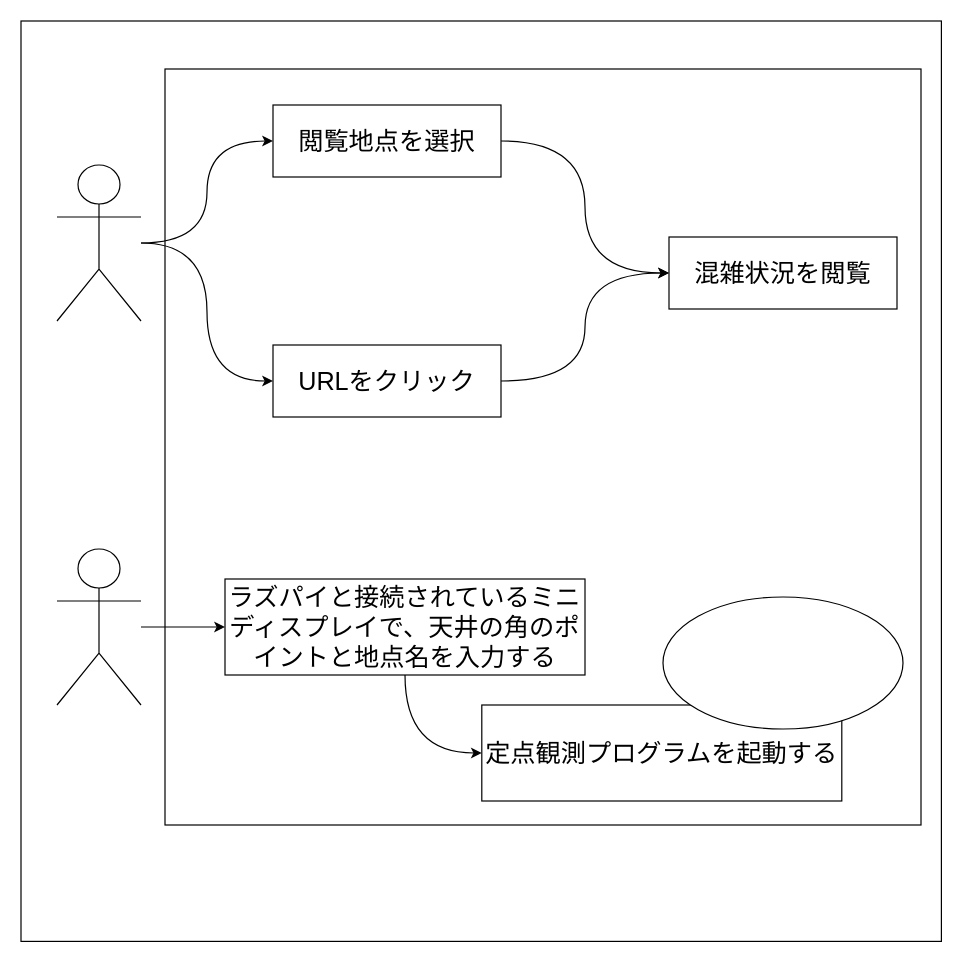
This 962x962 diagram has some shape labels left out. Here are the shapes that lost their labels. From the top down, the box of each, then its label:
(56, 164, 141, 321): user
(56, 548, 141, 705): master
(662, 596, 903, 729): 時間があればGUI画面作りたい
